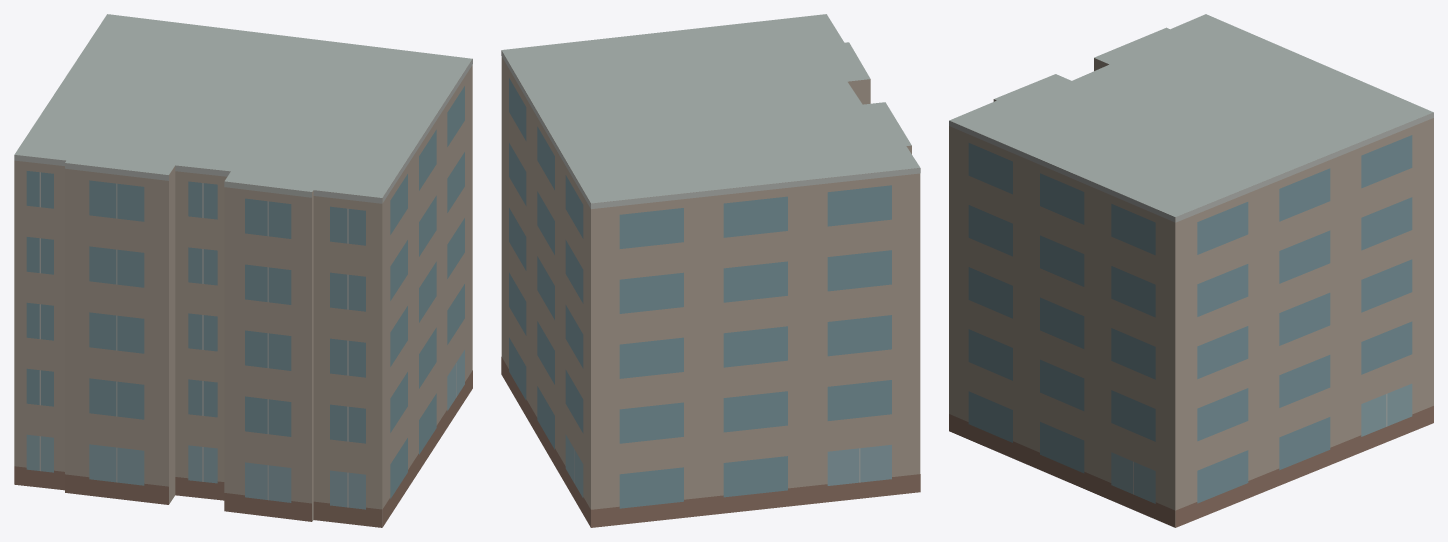
The model's file is survey-upis-33036702.glb.
The picture shows the model from 3 angles, left to right: view 1: azimuth 30°, elevation 25°; view 2: azimuth 150°, elevation 25°; view 3: azimuth 270°, elevation 25°; orthographic projection. The views are drawn at different scales.
Visible parts, largest first — view 1: survey-upis-33036702.tmp; view 2: survey-upis-33036702.tmp; view 3: survey-upis-33036702.tmp.
Part boxes in pixels (x1=…): survey-upis-33036702.tmp: x1=14, y1=14, x2=472, y2=527; survey-upis-33036702.tmp: x1=501, y1=14, x2=920, y2=527; survey-upis-33036702.tmp: x1=949, y1=14, x2=1433, y2=527.
Bounding box in the file's own units: 19.51 × 13.9 × 19.66.
